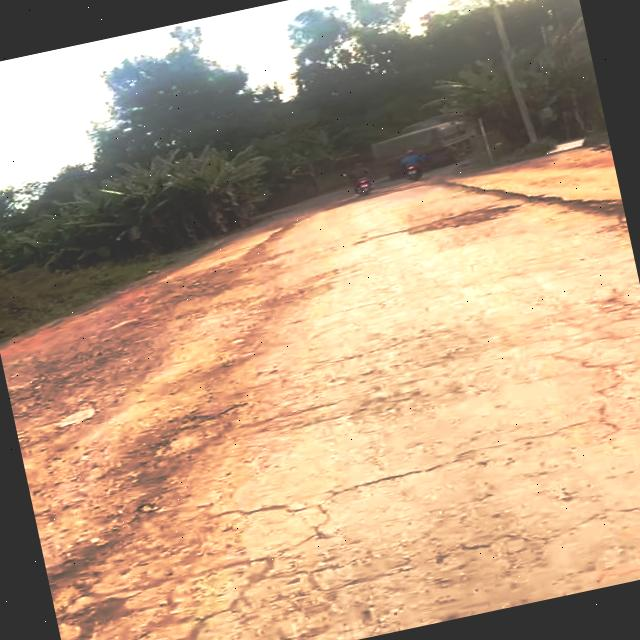pothole: (42, 527, 169, 640), (404, 199, 522, 240)
